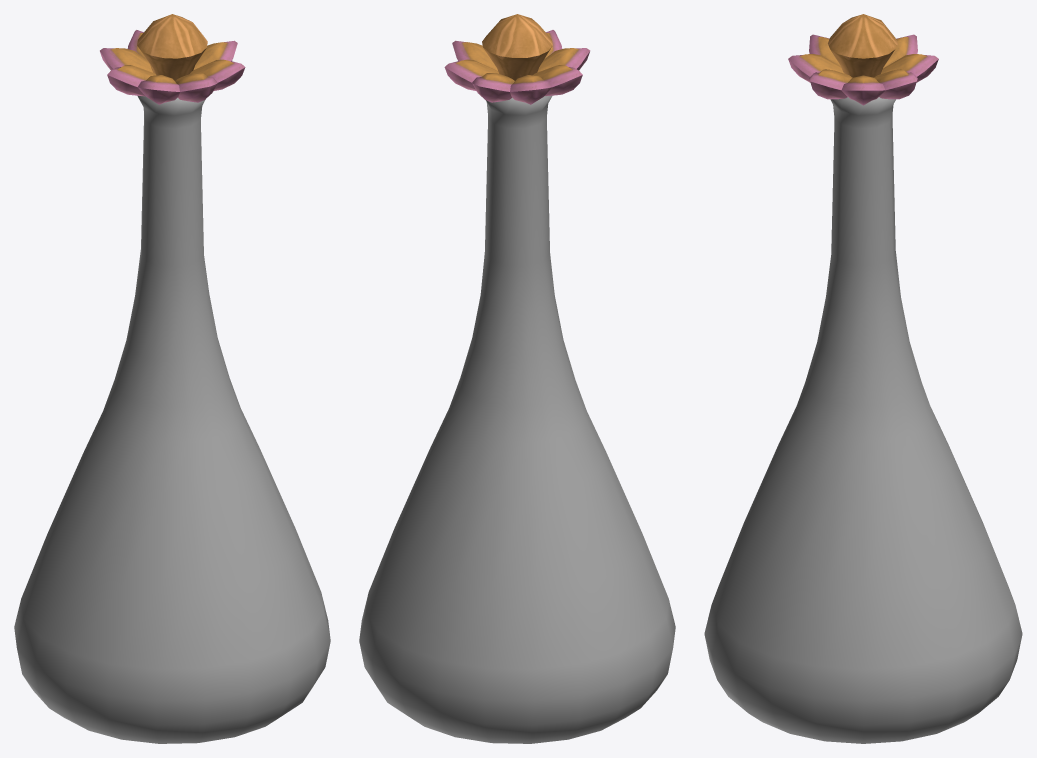
File: SM_Potion_Props_Bottle_Big_03_B.fbx
3 renders of one model, left to right at view 1: azimuth 30°, elevation 25°; view 2: azimuth 150°, elevation 25°; view 3: azimuth 270°, elevation 25°, orthographic.
Parts seen in each view (by area): view 1: SM_Potion_Props_Bottle_Big_03_B_LOD0; view 2: SM_Potion_Props_Bottle_Big_03_B_LOD0; view 3: SM_Potion_Props_Bottle_Big_03_B_LOD0.
Boxes of the visible parts, <box> form: SM_Potion_Props_Bottle_Big_03_B_LOD0: <box>14,14,330,743</box>; SM_Potion_Props_Bottle_Big_03_B_LOD0: <box>359,14,675,743</box>; SM_Potion_Props_Bottle_Big_03_B_LOD0: <box>704,14,1022,743</box>.
Size of what is drawn, in the model's own units: 25.1 by 59.22 by 25.09.
